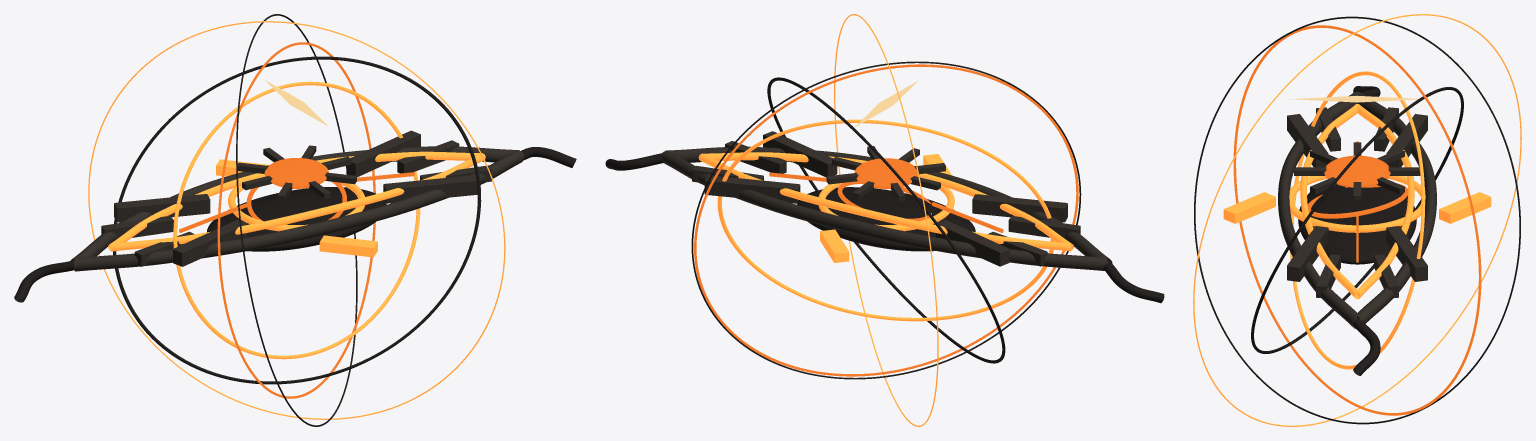
Rendered from chernobog-core-3d5b.glb.
The picture shows the model from 3 angles, left to right: view 1: azimuth 30°, elevation 25°; view 2: azimuth 150°, elevation 25°; view 3: azimuth 270°, elevation 25°; orthographic projection. The views are drawn at different scales.
Parts seen in each view (by area): view 1: OuterFrame_Lower, OrbitRing02, InnerOptic, OrbitRing01, LowerLid, OrbitRing05, OrbitRing03, OuterFrame_Upper, UpperLid, OrbitRing04, ArmorFin_UL_01, ArmorFin_LR_01 (+9 smaller); view 2: OuterFrame_Upper, InnerOptic, OrbitRing01, OrbitRing03, UpperLid, OrbitRing04, OrbitRing02, OuterFrame_Lower, LowerLid, OrbitRing05, ArmorFin_LL_01, ArmorFin_UR_01 (+9 smaller); view 3: InnerOptic, OrbitRing03, OuterFrame_Lower, OrbitRing04, OuterFrame_Upper, OrbitRing05, OrbitRing01, OrbitRing02, EnergyCore, IrisRing01, UpperLid, LowerLid (+13 smaller).
Boxes of the visible parts, x1=… form: OuterFrame_Lower: x1=74, y1=150, x2=524, y2=271; OrbitRing02: x1=113, y1=56, x2=481, y2=384; InnerOptic: x1=207, y1=187, x2=386, y2=251; OrbitRing01: x1=173, y1=81, x2=420, y2=359; LowerLid: x1=110, y1=153, x2=485, y2=251; OrbitRing05: x1=88, y1=21, x2=505, y2=419; OrbitRing03: x1=217, y1=42, x2=375, y2=398; OuterFrame_Upper: x1=70, y1=146, x2=519, y2=260; UpperLid: x1=108, y1=151, x2=482, y2=250; OrbitRing04: x1=236, y1=14, x2=357, y2=426; ArmorFin_UL_01: x1=114, y1=194, x2=210, y2=222; ArmorFin_LR_01: x1=383, y1=175, x2=477, y2=203; OuterFrame_Upper: x1=661, y1=151, x2=1107, y2=270; InnerOptic: x1=797, y1=187, x2=975, y2=251; OrbitRing01: x1=717, y1=119, x2=1054, y2=321; OrbitRing03: x1=694, y1=64, x2=1078, y2=376; UpperLid: x1=698, y1=154, x2=1071, y2=251; OrbitRing04: x1=691, y1=61, x2=1081, y2=379; OrbitRing02: x1=767, y1=77, x2=1005, y2=363; OuterFrame_Lower: x1=665, y1=146, x2=1112, y2=263; LowerLid: x1=701, y1=152, x2=1073, y2=250; OrbitRing05: x1=834, y1=14, x2=938, y2=426; ArmorFin_LL_01: x1=972, y1=194, x2=1067, y2=222; ArmorFin_UR_01: x1=704, y1=175, x2=800, y2=203; InnerOptic: x1=1298, y1=185, x2=1416, y2=264; OrbitRing03: x1=1233, y1=25, x2=1481, y2=415; OuterFrame_Lower: x1=1278, y1=91, x2=1359, y2=328; OrbitRing04: x1=1194, y1=16, x2=1520, y2=424; OuterFrame_Upper: x1=1353, y1=91, x2=1436, y2=323; OrbitRing05: x1=1193, y1=14, x2=1521, y2=426; OrbitRing01: x1=1290, y1=71, x2=1425, y2=369; OrbitRing02: x1=1251, y1=87, x2=1463, y2=353; EnergyCore: x1=1324, y1=155, x2=1390, y2=187; IrisRing01: x1=1289, y1=176, x2=1425, y2=232; UpperLid: x1=1355, y1=104, x2=1414, y2=299; LowerLid: x1=1300, y1=104, x2=1359, y2=299.
Size of the model in its own units: 9.75 by 6.34 by 4.76.
